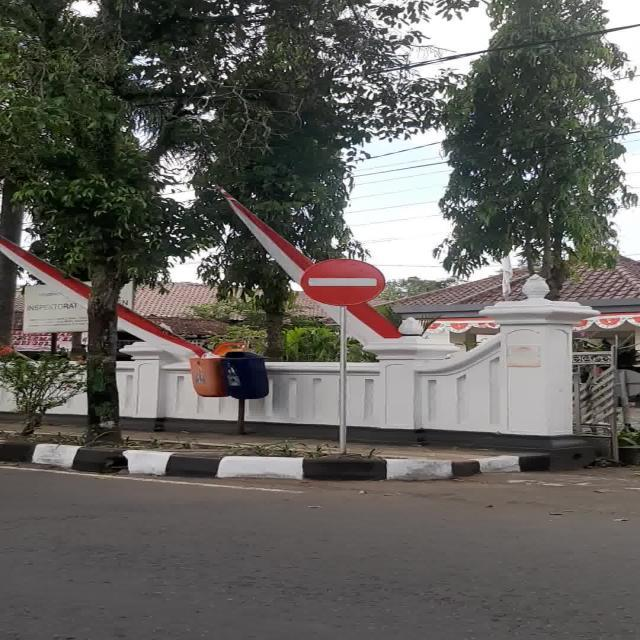Dilarang Masuk: (303, 258, 387, 306)
